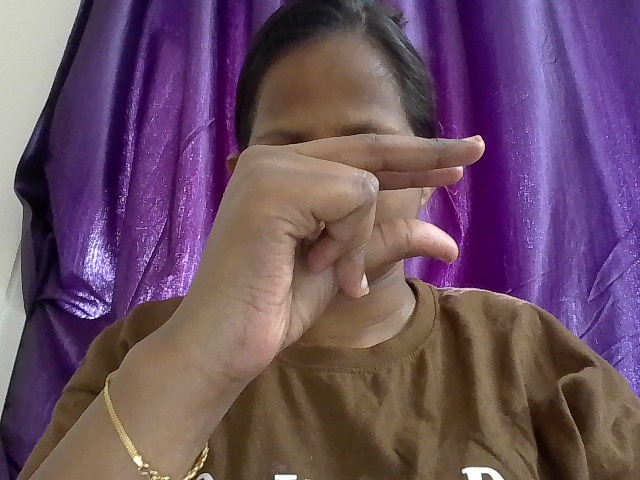NO: (103, 56, 542, 409)
